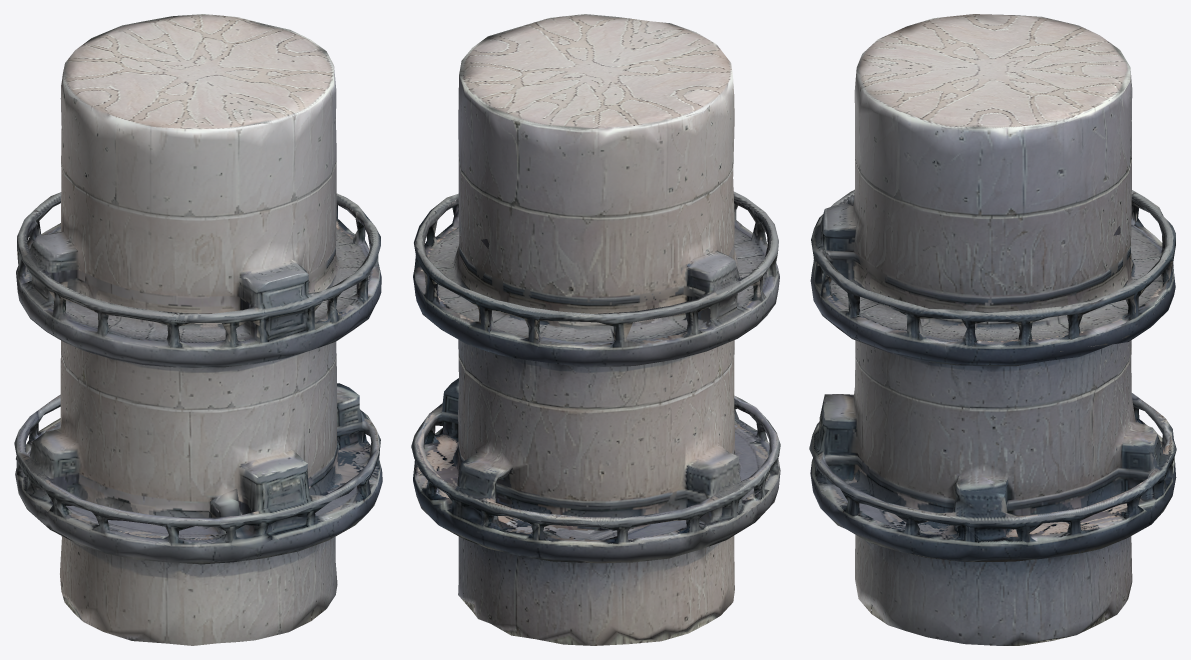
Rendered from 남산_철제받침기둥.glb.
3 views of the same model, side by side, from view 1: azimuth 30°, elevation 25°; view 2: azimuth 150°, elevation 25°; view 3: azimuth 270°, elevation 25° (orthographic).
Parts seen in each view (by area): view 1: texture_mapping; view 2: texture_mapping; view 3: texture_mapping.
Boxes of the visible parts, x1=… form: texture_mapping: x1=14, y1=14, x2=382, y2=645; texture_mapping: x1=411, y1=14, x2=780, y2=645; texture_mapping: x1=809, y1=14, x2=1176, y2=645.
Size of the model in its own units: 0.64 by 1 by 0.6418.
1 material, 1 textured.
